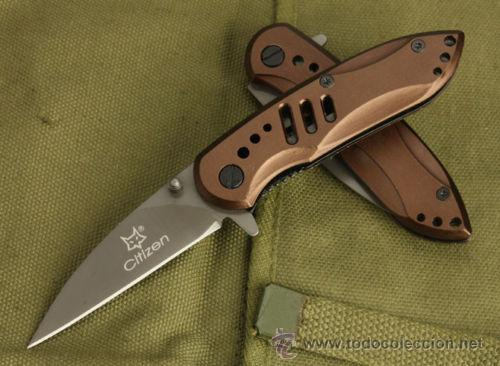knife: (21, 158, 229, 356)
